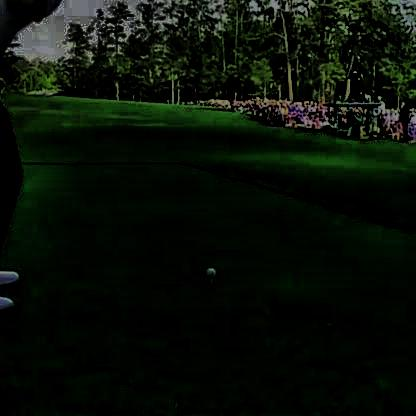golfball: (201, 262, 212, 273)
